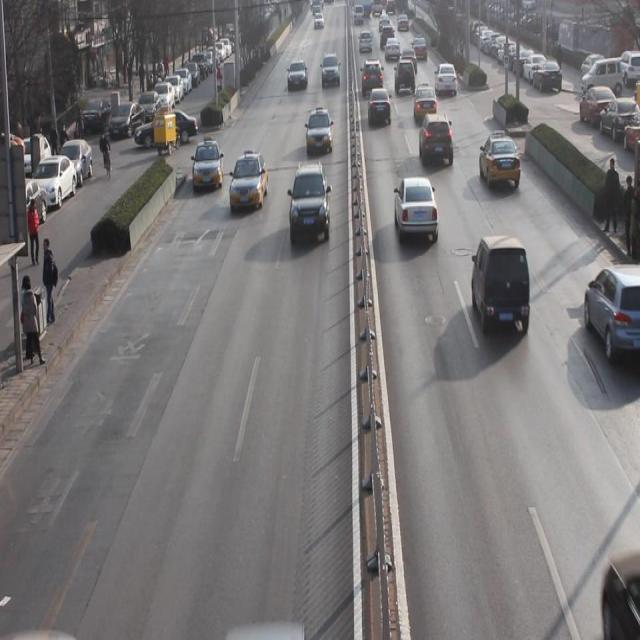car: (584, 263, 640, 358), (392, 176, 440, 248), (290, 165, 332, 242), (479, 134, 522, 193), (230, 152, 269, 211), (419, 114, 456, 174), (191, 138, 224, 196), (306, 109, 335, 155), (413, 84, 438, 122), (370, 84, 392, 125), (393, 57, 416, 92), (320, 53, 341, 90), (362, 59, 383, 94), (435, 64, 458, 95), (287, 62, 308, 92)
truck: (473, 235, 532, 339)
